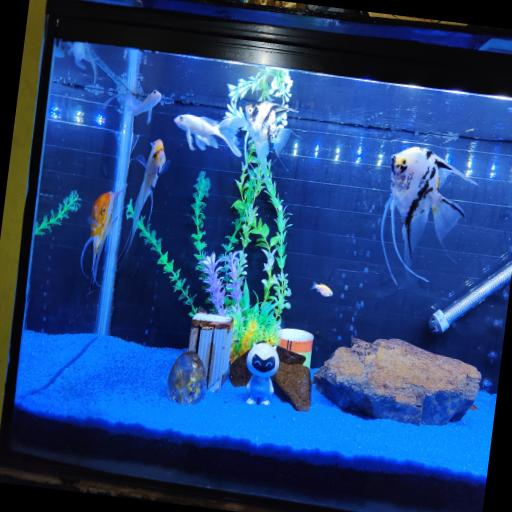Fish: (381, 147, 476, 284), (121, 139, 169, 261), (81, 191, 121, 289), (245, 101, 297, 165), (174, 114, 247, 156), (103, 90, 161, 124), (68, 42, 97, 84), (133, 90, 161, 124), (310, 282, 333, 297), (53, 38, 67, 58), (480, 378, 494, 392), (470, 406, 478, 411)
